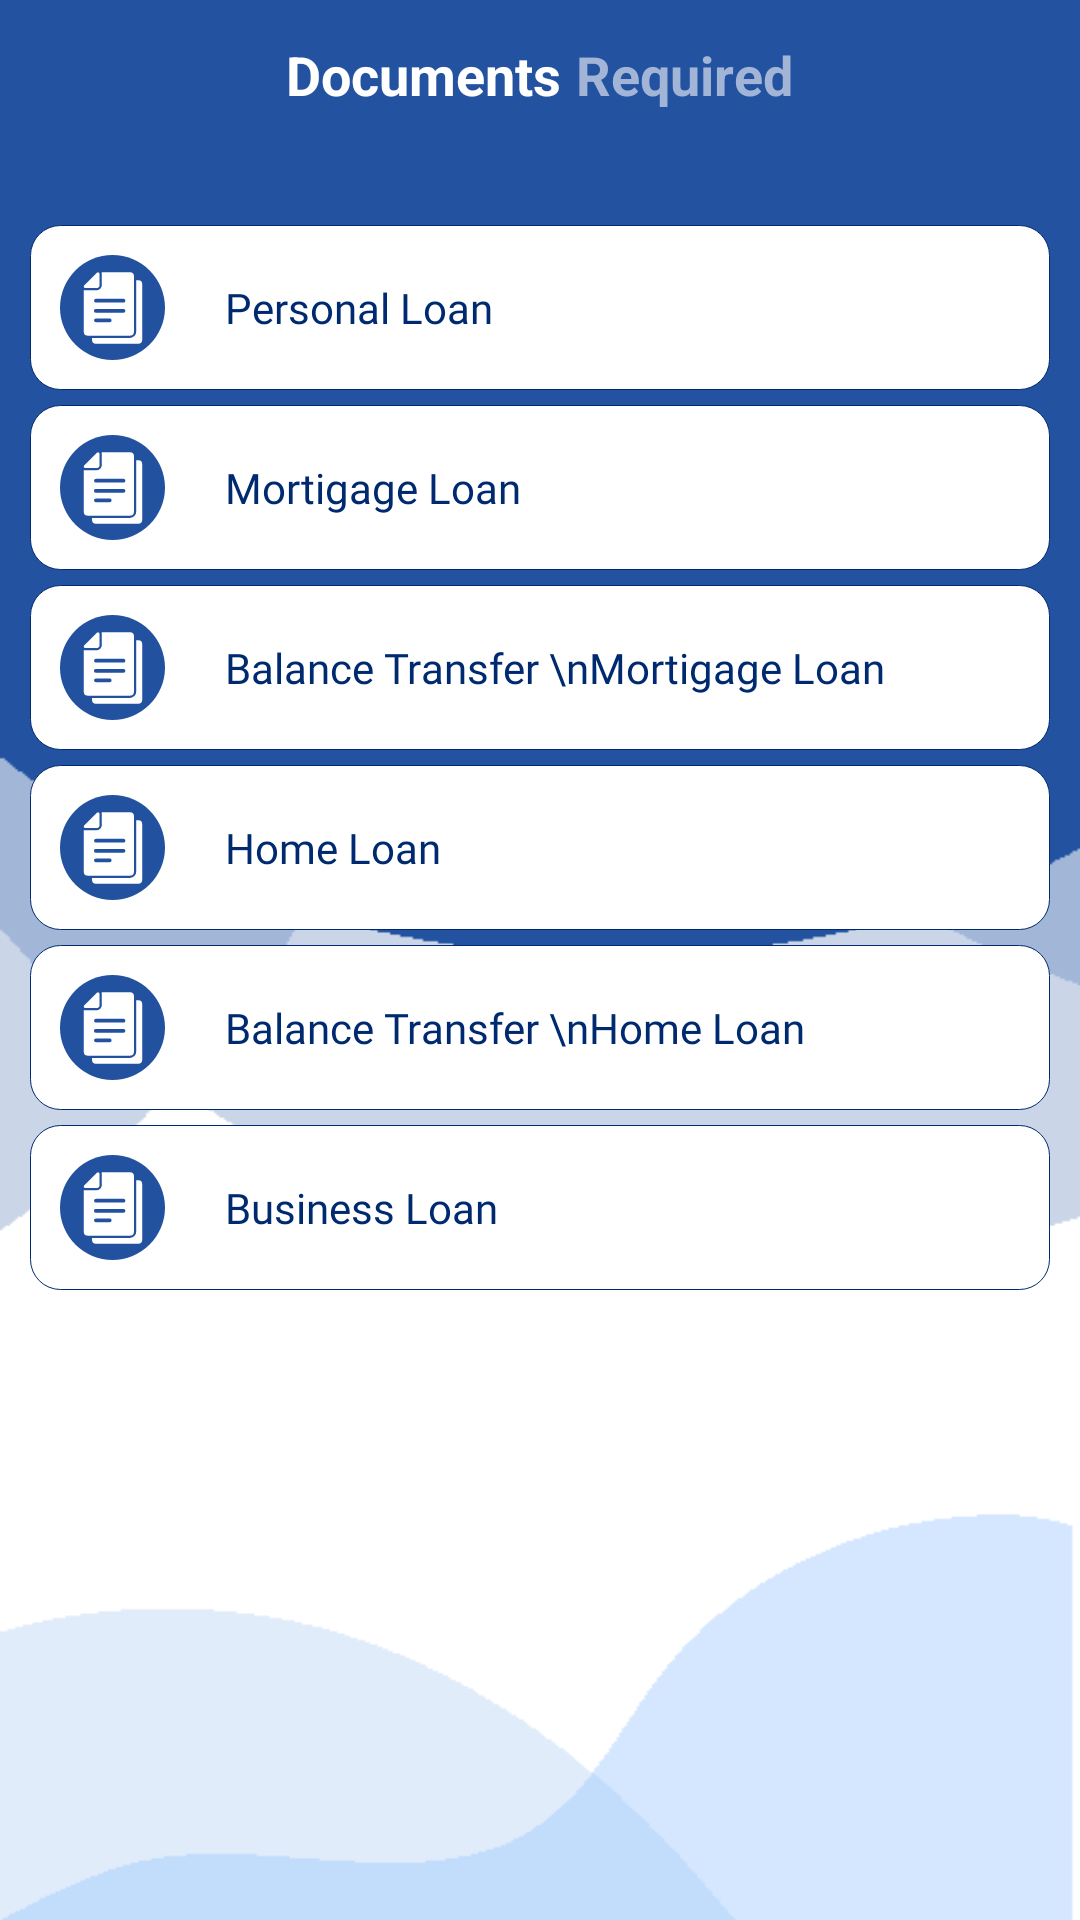

Screen size 1080w x 1920h. Icon name, then its center in pixels as (x=x, y=y):
doc req: (x=112, y=307), (x=112, y=487), (x=112, y=667), (x=112, y=847), (x=112, y=1027), (x=112, y=1207)
